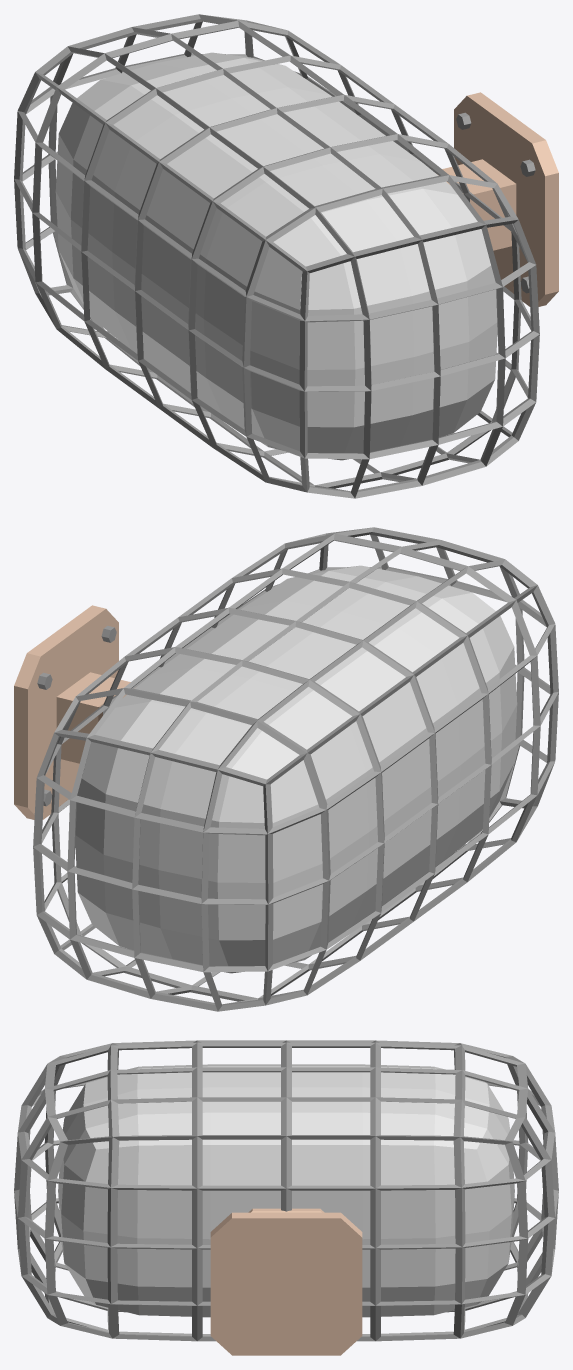
The model's file is LampHolderForBlueLight.fbx.
3 views of the same model, one above another, from view 1: azimuth 30°, elevation 25°; view 2: azimuth 150°, elevation 25°; view 3: azimuth 270°, elevation 25° (orthographic). The views are drawn at different scales.
Visible parts, largest first — view 1: Cube.003, Cube.005, Cube.004; view 2: Cube.003, Cube.005, Cube.004; view 3: Cube.003, Cube.005, Cube.004.
Part boxes in pixels (<box>): Cube.003: <box>55,52,497,460</box>; Cube.005: <box>14,14,539,498</box>; Cube.004: <box>437,92,558,306</box>; Cube.003: <box>75,565,517,973</box>; Cube.005: <box>33,527,558,1011</box>; Cube.004: <box>14,605,135,819</box>; Cube.003: <box>58,1064,514,1317</box>; Cube.005: <box>14,1040,558,1341</box>; Cube.004: <box>210,1208,362,1355</box>.
Size of the model in its own units: 272 by 204 by 408.
